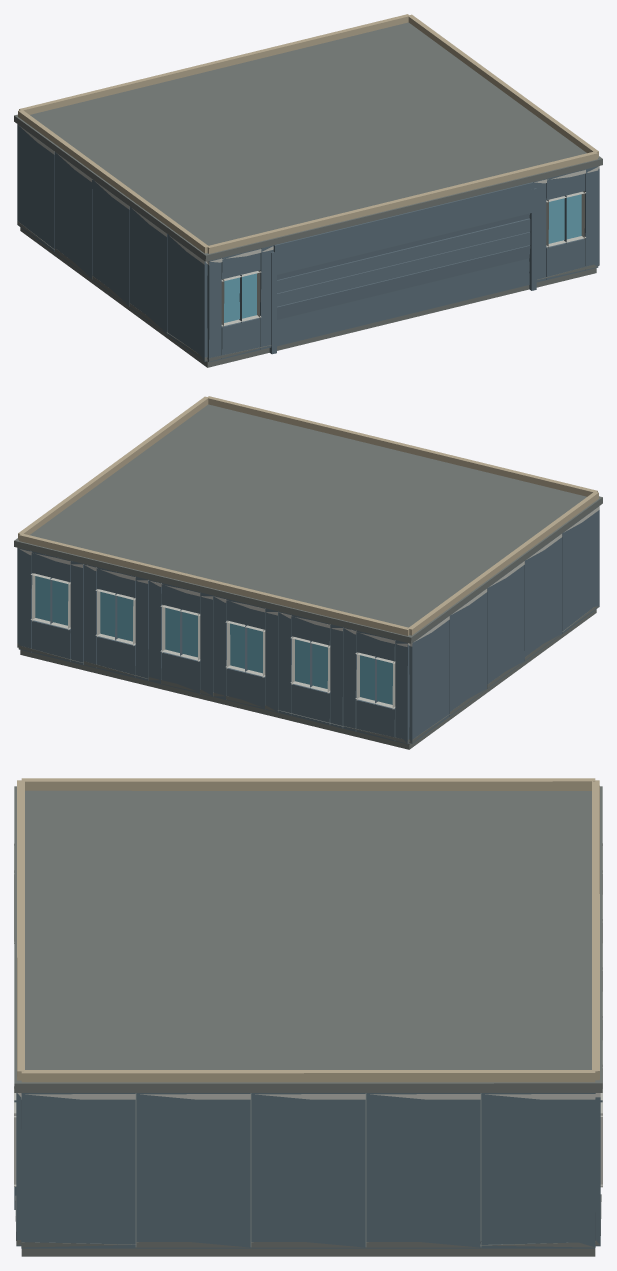
The model's file is architecture-warehouse.lod2.glb.
3 views of the same model, one above another, from view 1: azimuth 30°, elevation 25°; view 2: azimuth 150°, elevation 25°; view 3: azimuth 270°, elevation 25° (orthographic). The views are drawn at different scales.
Visible parts, largest first — view 1: architecture-warehouse__body, architecture-warehouse__loading_door; view 2: architecture-warehouse__body; view 3: architecture-warehouse__body.
Part boxes in pixels (x1,y1,x2,y2): architecture-warehouse__body: [14, 14, 602, 367]; architecture-warehouse__loading_door: [277, 213, 530, 346]; architecture-warehouse__body: [14, 396, 602, 749]; architecture-warehouse__body: [14, 778, 602, 1256].
Size of the model in its own units: 12.23 by 3.56 by 10.25.
